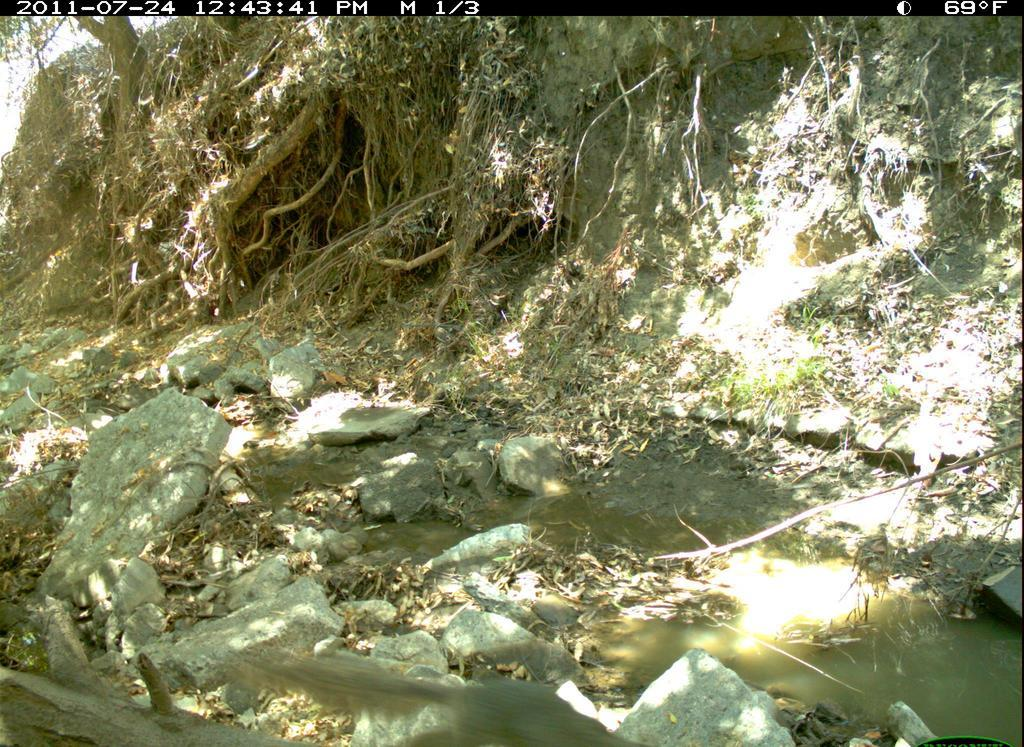squirrel: (222, 642, 665, 747)
